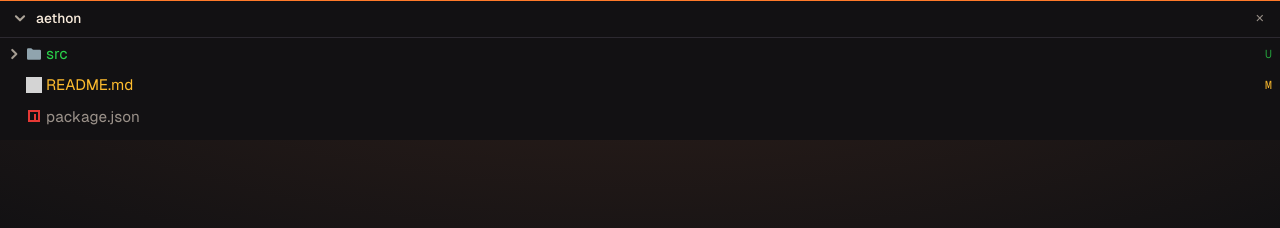
Test: FileTreePanel › renders Git status decorations for changed files and folders
Check: the text named "Modified" is shown, box [1265,77,1272,92]
Click the text "src".
click(57, 54)  # box [46,45,68,62]
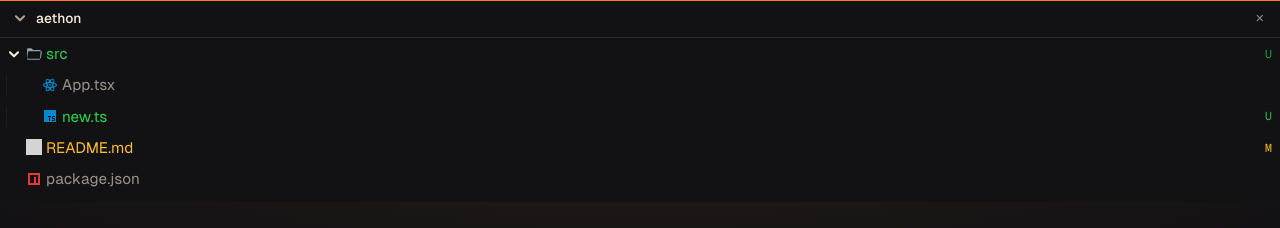
Check: the text named "Untracked" is shown, box [1265,108,1272,123]
